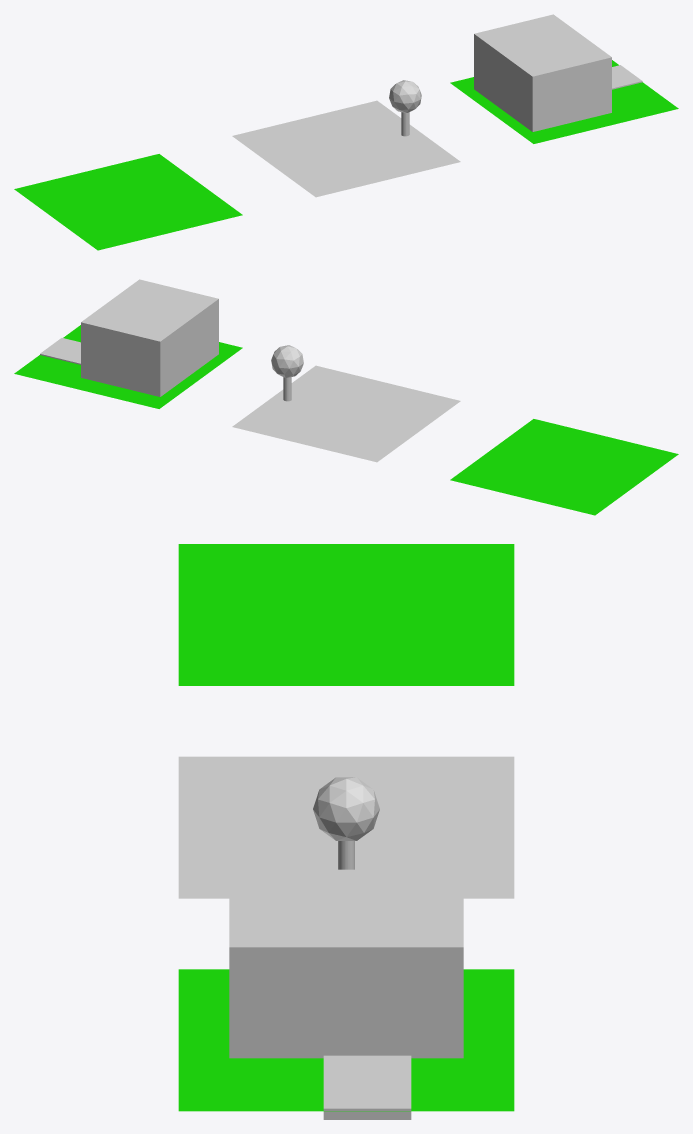
The model's file is tiles.fbx.
The picture shows the model from 3 angles, top to bottom: view 1: azimuth 30°, elevation 25°; view 2: azimuth 150°, elevation 25°; view 3: azimuth 270°, elevation 25°; orthographic projection. The views are drawn at different scales.
Parts seen in each view (by area): view 1: Forest, Cube, Plains, House, Cube.001; view 2: Forest, Cube, Plains, House, Cube.001; view 3: Plains, Cube, Forest, House, Cube.001.
Boxes of the visible parts, x1,y1,x2,y2 form: Forest: (232, 80, 460, 197); Cube: (474, 14, 611, 131); Plains: (14, 154, 242, 250); House: (450, 60, 678, 143); Cube.001: (612, 65, 642, 89); Forest: (232, 345, 460, 462); Cube: (81, 279, 218, 396); Plains: (450, 419, 678, 515); House: (14, 325, 242, 408); Cube.001: (40, 338, 80, 364); Plains: (178, 544, 514, 685); Cube: (229, 869, 463, 1058); Forest: (178, 756, 514, 898); House: (178, 969, 514, 1111); Cube.001: (323, 1055, 411, 1119).
Bounding box in the file's own units: 800 × 78.79 × 200.
